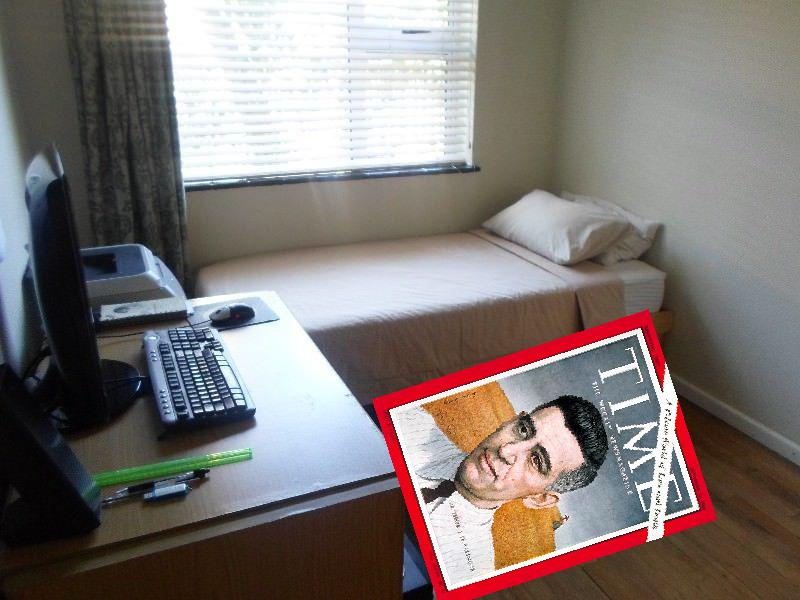times: (370, 305, 718, 600)
